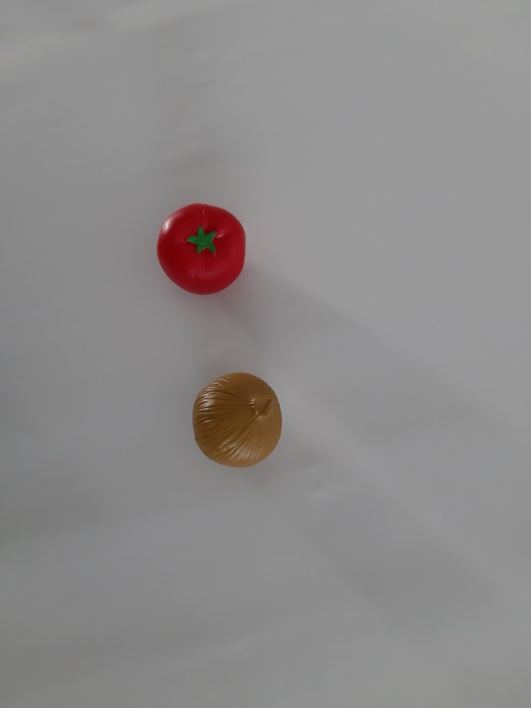onion: (180, 360, 299, 494)
tomato: (138, 191, 268, 307)
